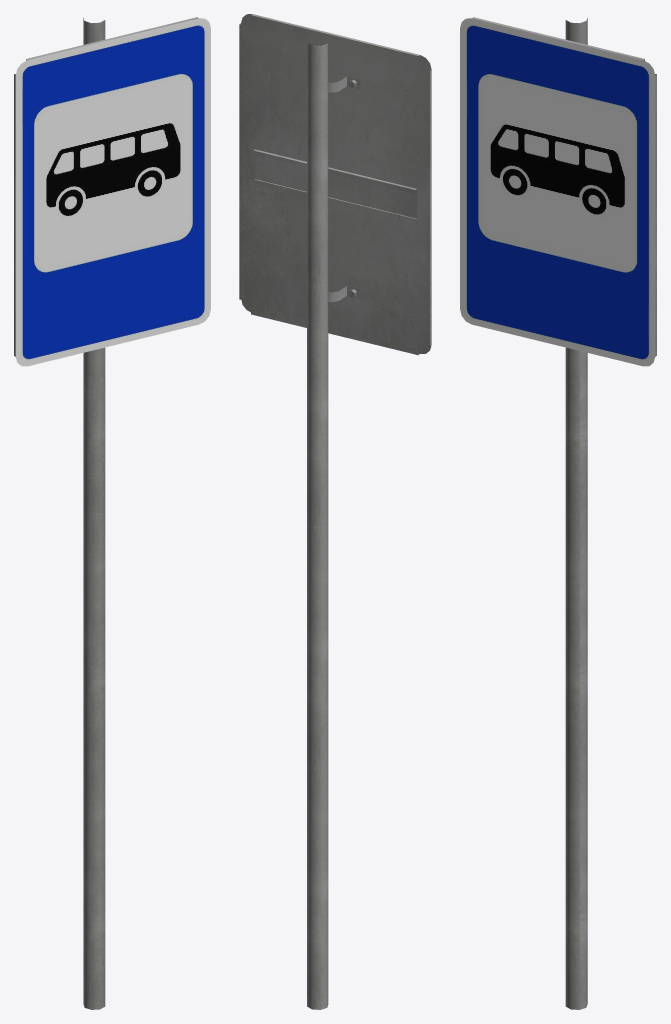
Rendered from sign_busstop.glb.
3 renders of one model, left to right at view 1: azimuth 30°, elevation 25°; view 2: azimuth 150°, elevation 25°; view 3: azimuth 330°, elevation 25°, orthographic. The views are drawn at different scales.
Parts seen in each view (by area): view 1: BusStop_BusStop_0, __Pole_MetalBack_0, BusStop_MetalBack_0; view 2: BusStop_MetalBack_0, __Pole_MetalBack_0; view 3: BusStop_BusStop_0, __Pole_MetalBack_0, BusStop_MetalBack_0.
Boxes of the visible parts, bbox=[...] form: BusStop_BusStop_0: bbox=[15, 18, 210, 366]; __Pole_MetalBack_0: bbox=[83, 17, 105, 1009]; BusStop_MetalBack_0: bbox=[14, 17, 198, 356]; BusStop_MetalBack_0: bbox=[239, 14, 431, 355]; __Pole_MetalBack_0: bbox=[307, 41, 328, 1009]; BusStop_BusStop_0: bbox=[460, 18, 655, 366]; __Pole_MetalBack_0: bbox=[565, 17, 587, 1009]; BusStop_MetalBack_0: bbox=[472, 17, 656, 356].
Bounding box in the file's own units: 0.6 × 2.9 × 0.1311.
2 materials, 2 textured.
